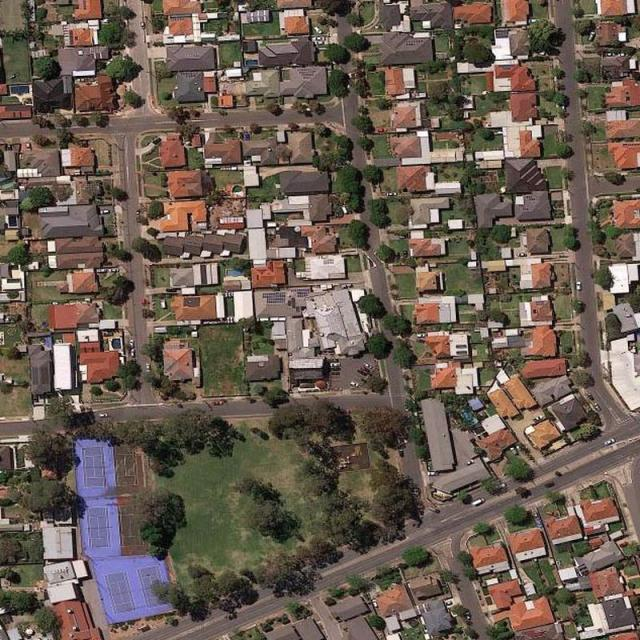vehicle: (472, 498, 486, 506), (604, 437, 614, 445), (313, 26, 322, 34), (594, 402, 601, 411), (618, 541, 628, 547), (587, 31, 594, 39), (535, 518, 542, 526), (495, 483, 506, 488), (364, 363, 373, 369), (415, 334, 428, 338), (212, 400, 222, 405), (142, 308, 147, 318), (351, 381, 359, 387), (371, 598, 377, 606), (445, 600, 453, 606), (517, 252, 526, 257), (575, 280, 580, 289), (142, 295, 146, 306), (587, 394, 594, 400), (330, 363, 340, 367), (428, 472, 438, 476), (141, 22, 146, 30), (465, 610, 470, 618), (377, 127, 387, 131), (534, 416, 542, 421), (146, 363, 150, 372), (467, 459, 473, 465), (96, 269, 107, 272), (99, 414, 107, 418), (403, 250, 407, 258), (101, 210, 109, 214), (26, 142, 30, 150), (395, 252, 399, 259), (387, 193, 396, 196), (109, 269, 118, 272), (605, 53, 614, 56), (618, 53, 627, 56), (130, 340, 134, 346), (131, 349, 134, 357), (313, 36, 321, 39), (314, 41, 322, 43), (137, 211, 139, 218)
